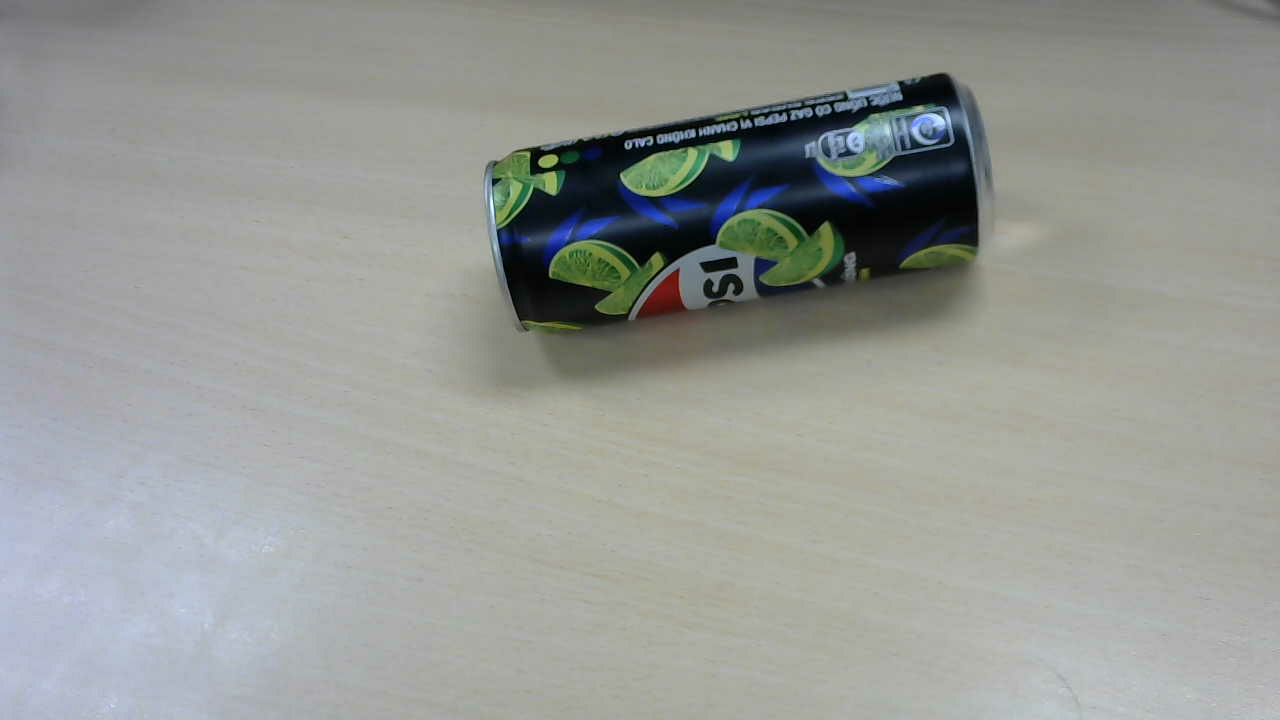Pepsi: (489, 75, 994, 344)
